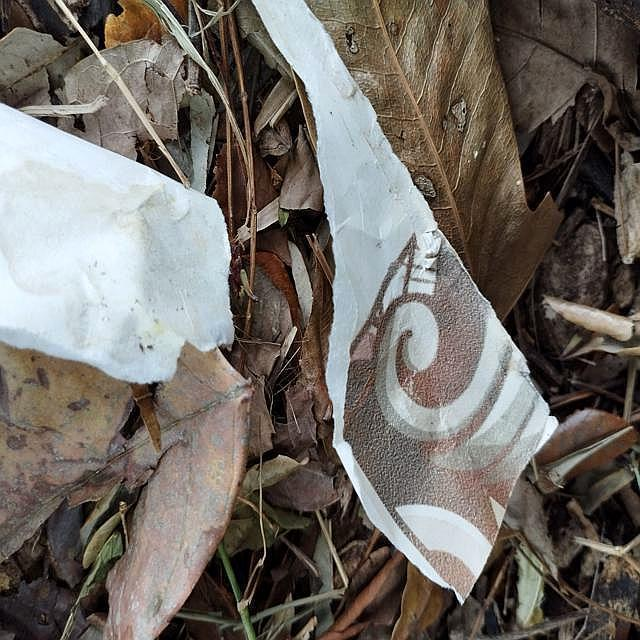Biodegradable: (302, 1, 566, 602), (1, 94, 234, 412)
